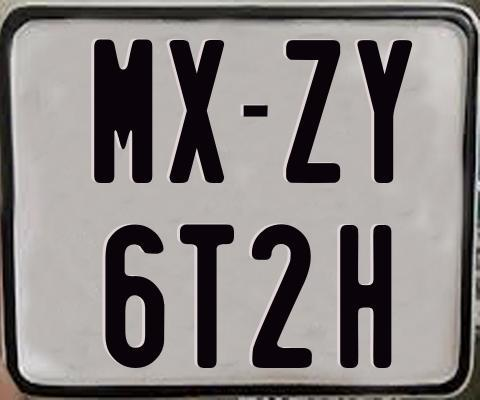2: (252, 224, 318, 370)
6: (103, 221, 165, 371)
H: (340, 224, 396, 372)
M: (91, 37, 155, 185)
T: (180, 221, 236, 369)
X: (168, 39, 226, 188)
Y: (357, 39, 414, 187)
Z: (285, 37, 344, 183)
